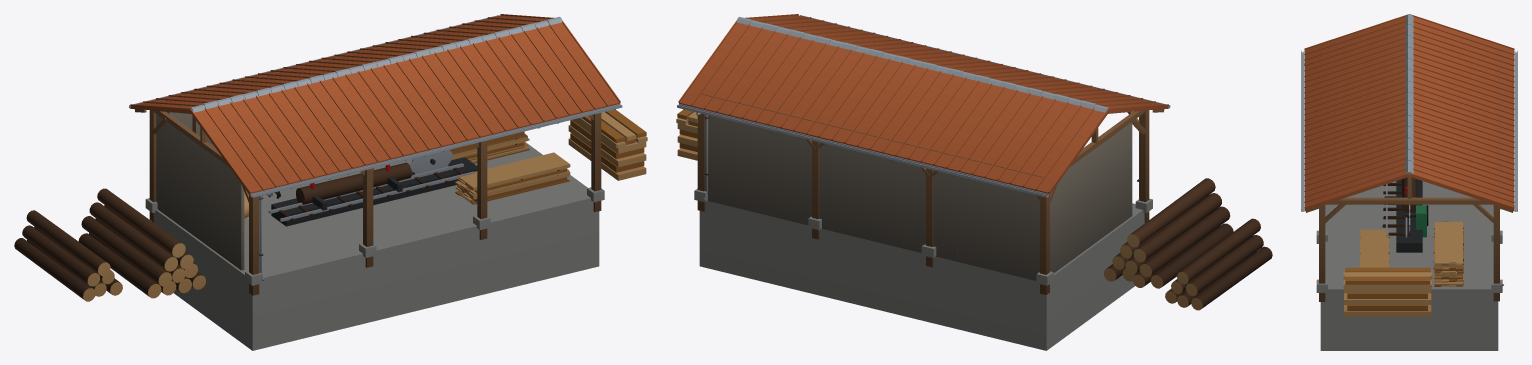
Rendered from Sawmill.fbx.
3 views of the same model, side by side, from view 1: azimuth 30°, elevation 25°; view 2: azimuth 150°, elevation 25°; view 3: azimuth 270°, elevation 25° (orthographic). The views are drawn at different scales.
Parts seen in each view (by area): view 1: Sawmill_LOD0; view 2: Sawmill_LOD0; view 3: Sawmill_LOD0.
Part boxes in pixels (x1,y1,x2,y2): Sawmill_LOD0: (14,14,647,350); Sawmill_LOD0: (676,14,1272,350); Sawmill_LOD0: (1301,14,1517,350).
Size of what is drawn, in the model's own units: 25.82 by 9.3 by 9.92.
1 material, 1 textured.
